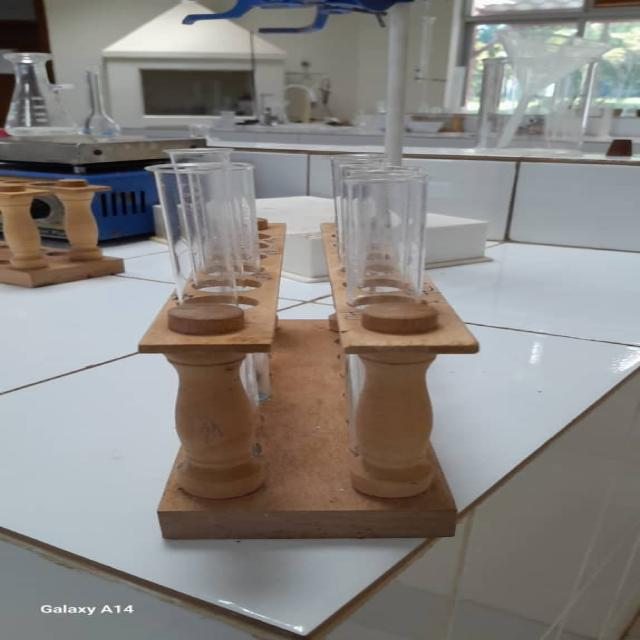Test Tube Racks: (128, 151, 467, 540)
